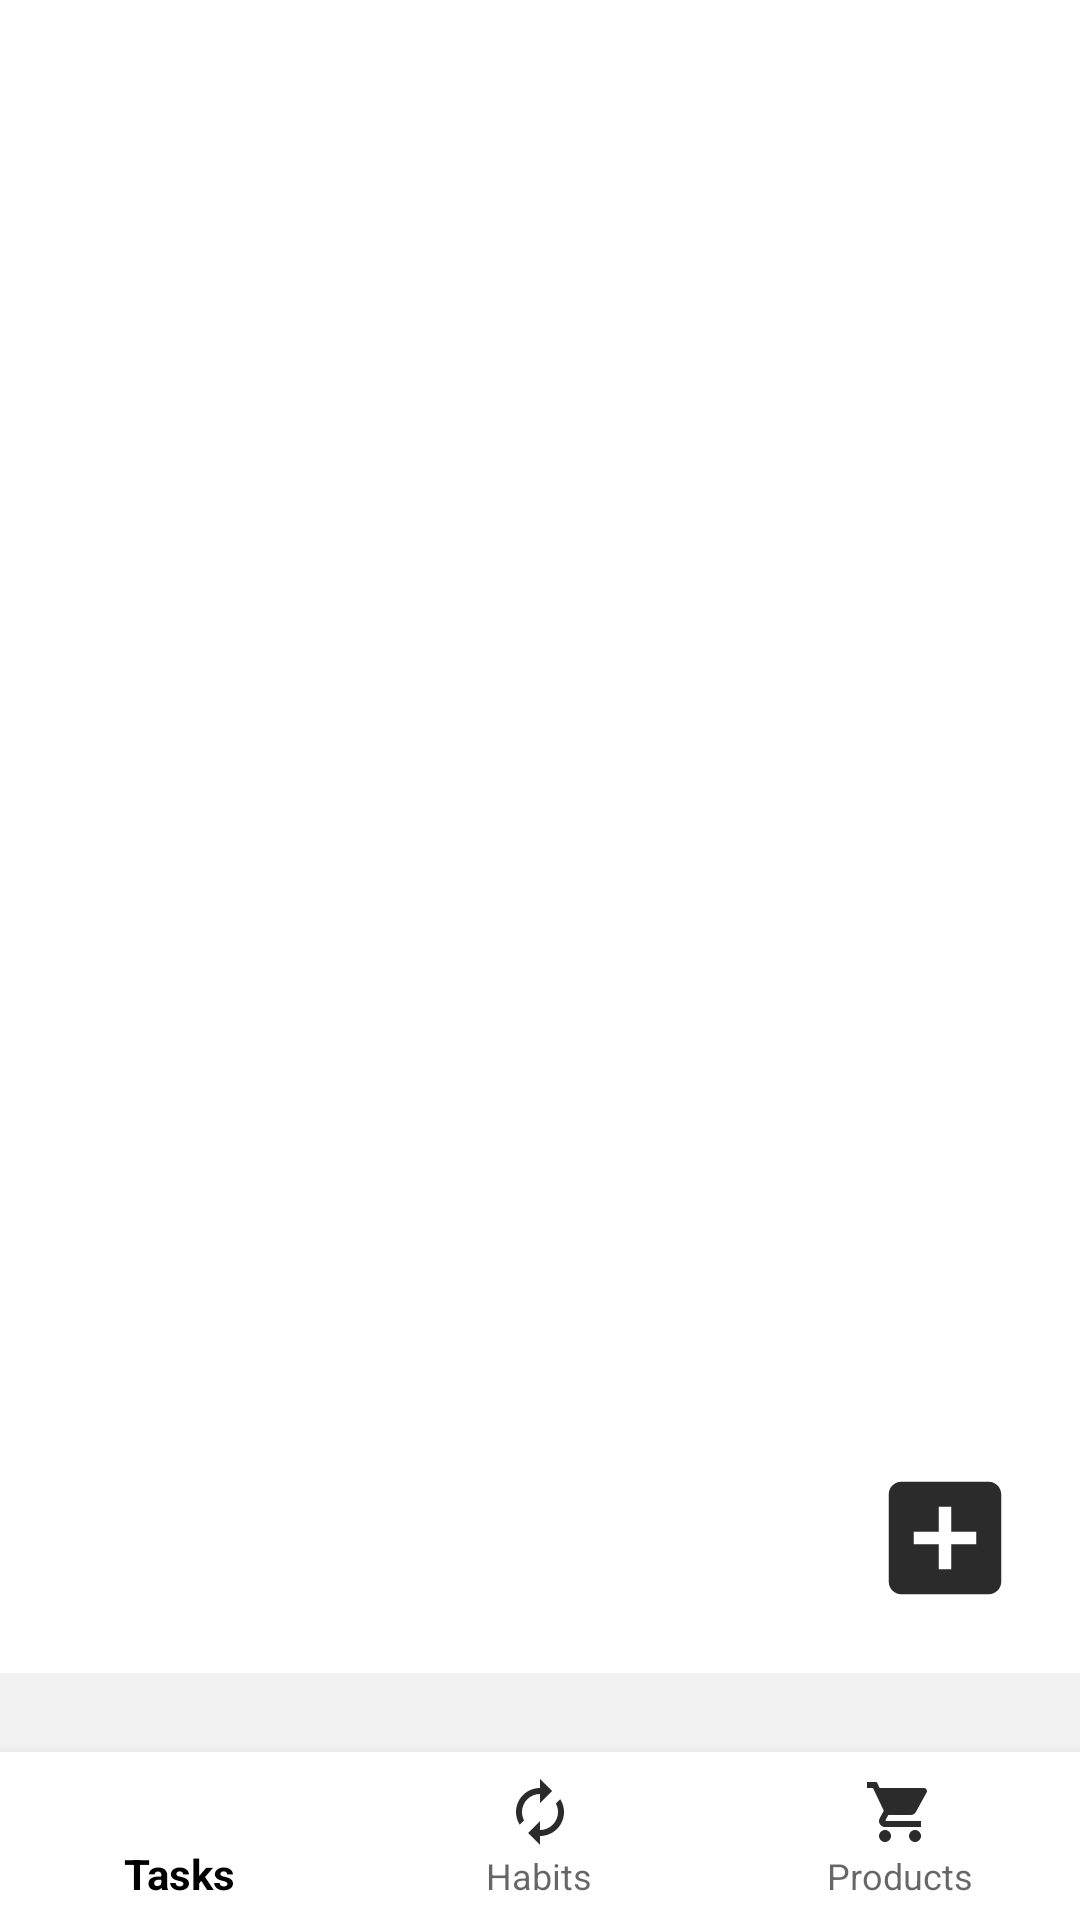

Icons on this 1080px x 1920px Android screen, each with the point to tap as point (x, y):
add: point (945, 1538)
